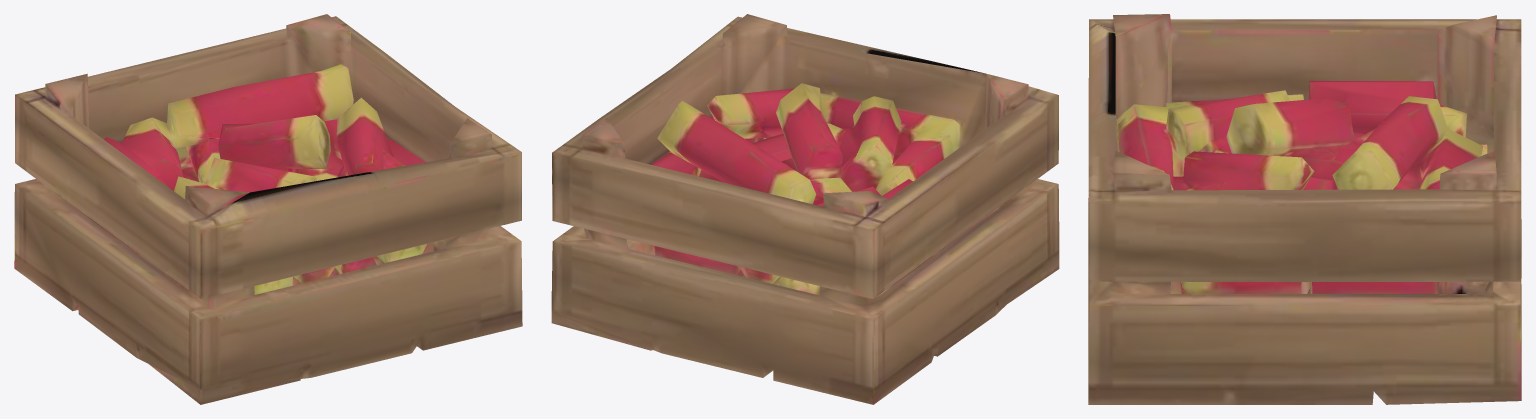
Rendered from shells.glb.
The picture shows the model from 3 angles, left to right: view 1: azimuth 30°, elevation 25°; view 2: azimuth 150°, elevation 25°; view 3: azimuth 270°, elevation 25°; orthographic projection. The views are drawn at different scales.
Visible parts, largest first — view 1: Mesh1.0; view 2: Mesh1.0; view 3: Mesh1.0.
Part boxes in pixels (x1,y1,x2,y2): Mesh1.0: [14, 14, 522, 404]; Mesh1.0: [551, 14, 1059, 404]; Mesh1.0: [1088, 14, 1521, 404].
Size of the model in its own units: 1.91 by 1.09 by 1.91.
Materials: 1 (1 with a texture image).
